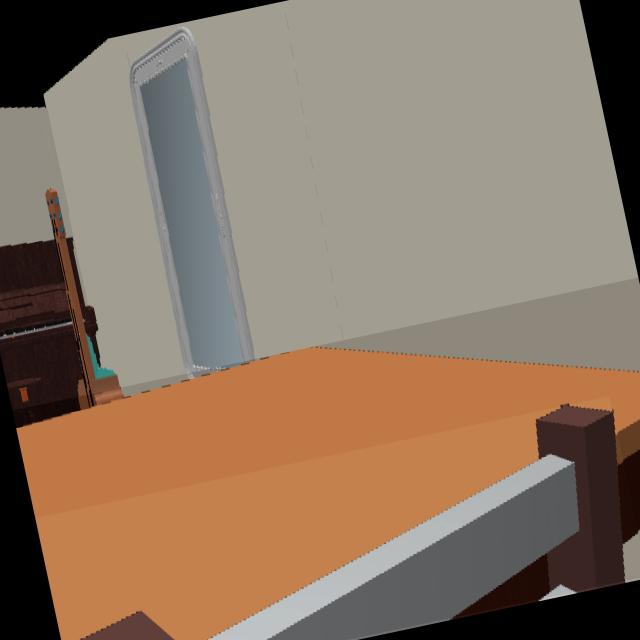chair: (208, 406, 622, 640)
table: (16, 348, 640, 640)
